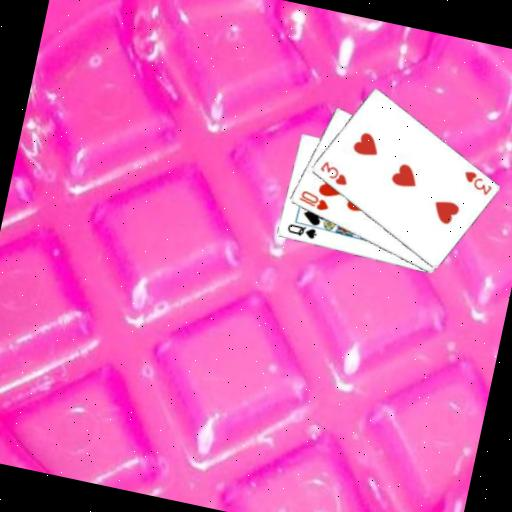10H: (294, 186, 332, 213)
3H: (313, 156, 351, 188), (458, 166, 496, 198)
QS: (283, 220, 319, 242)
